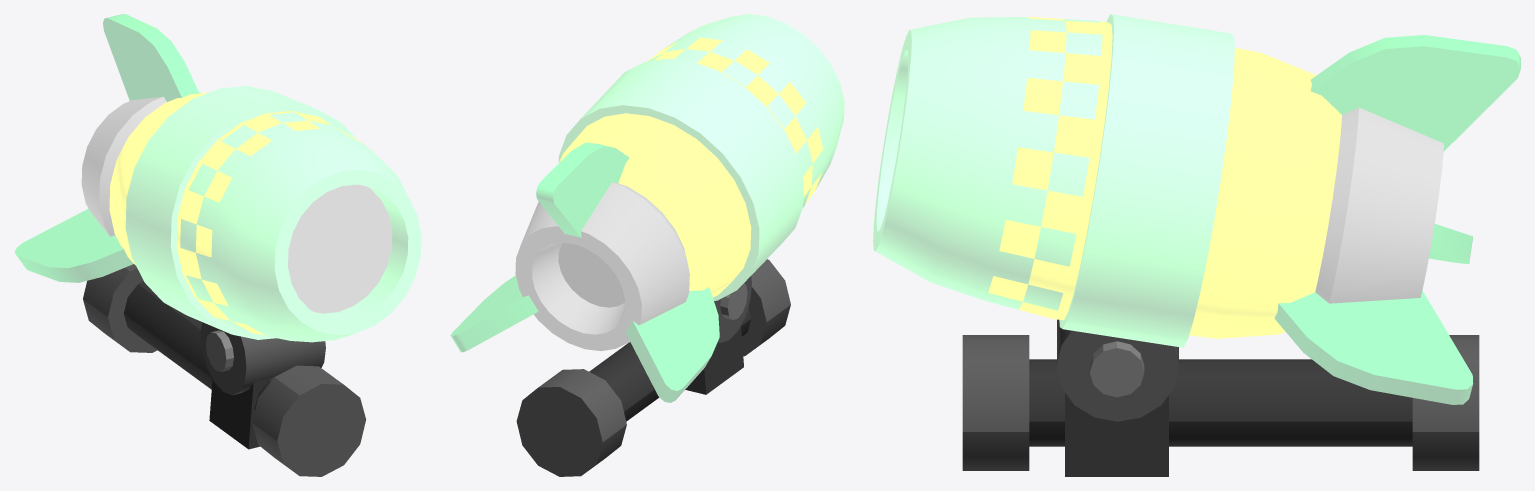
File: military.glb
The picture shows the model from 3 angles, left to right: view 1: azimuth 30°, elevation 25°; view 2: azimuth 150°, elevation 25°; view 3: azimuth 270°, elevation 25°; orthographic projection. The views are drawn at different scales.
Parts seen in each view (by area): view 1: rocket, military; view 2: rocket, military; view 3: rocket, military.
Part boxes in pixels (x1,y1,x2,y2): rocket: [14, 14, 421, 342]; military: [83, 264, 366, 476]; rocket: [450, 14, 844, 402]; military: [516, 259, 790, 476]; rocket: [873, 14, 1520, 404]; military: [962, 319, 1479, 476].
Bounding box in the file's own units: 0.7174 × 0.9469 × 1.27.
2 materials, 2 textured.
